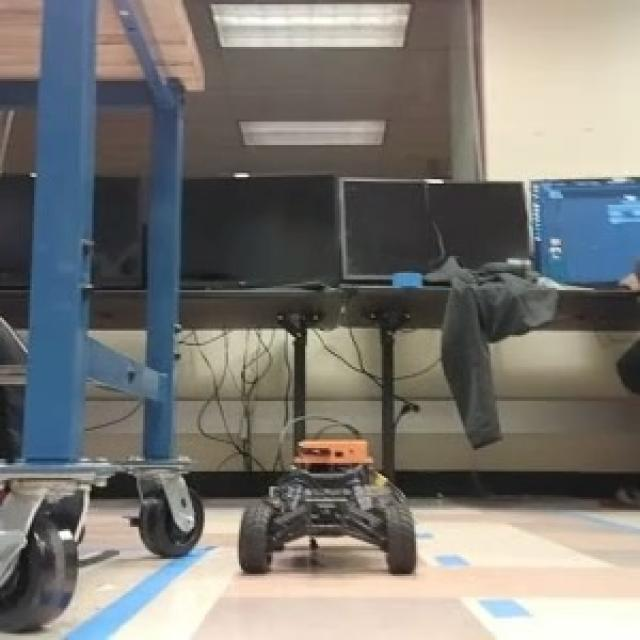obstacle: (232, 432, 422, 580)
